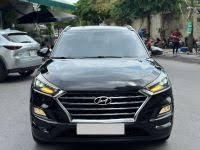hyundai: (90, 93, 112, 109)
